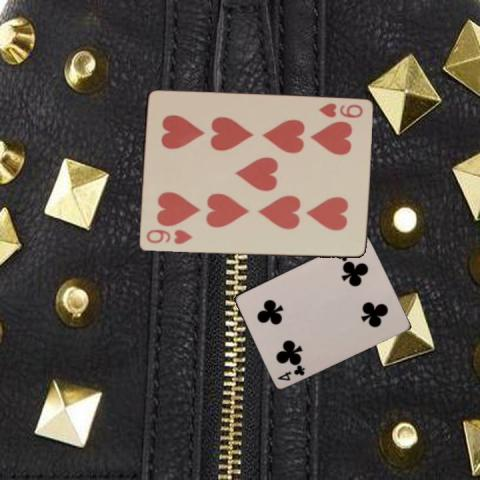4c: (275, 361, 306, 382)
9h: (143, 227, 193, 246), (315, 101, 364, 119)
